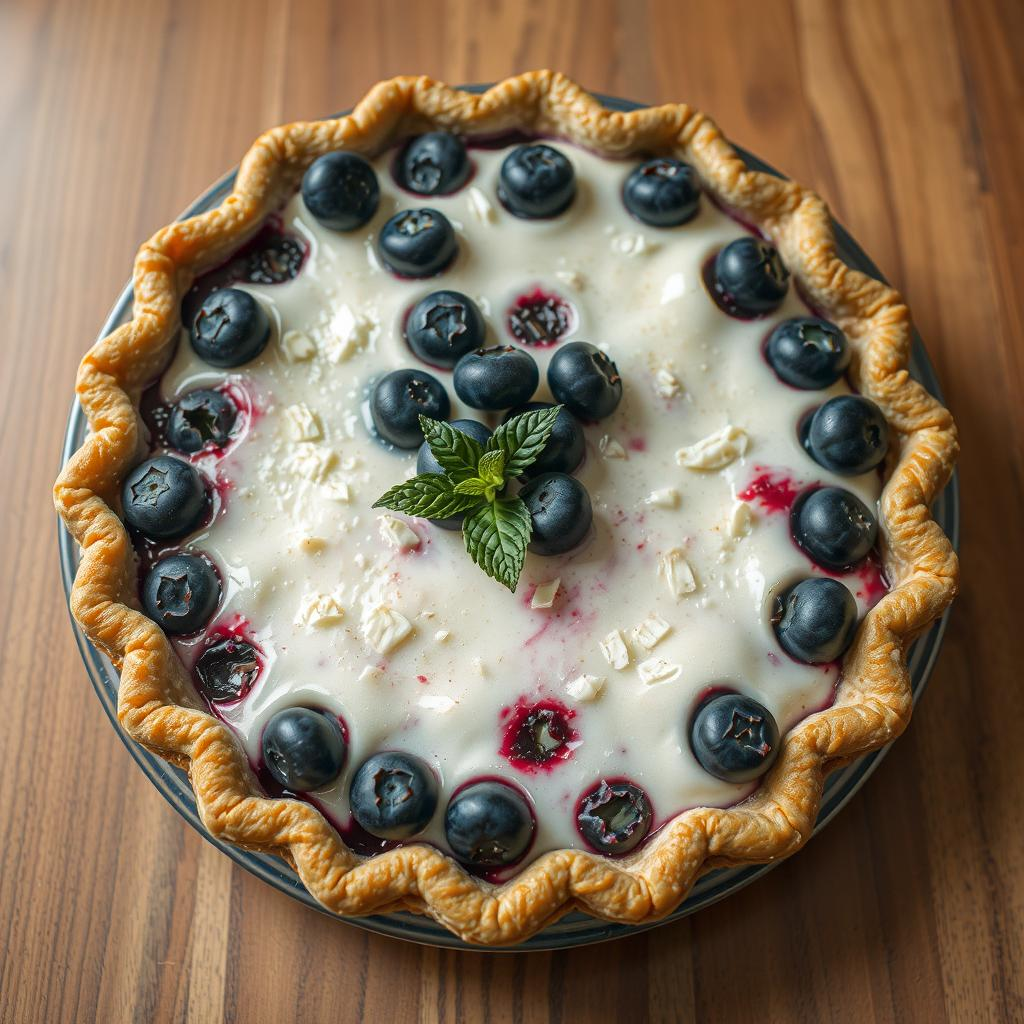pie: (49, 63, 977, 959)
